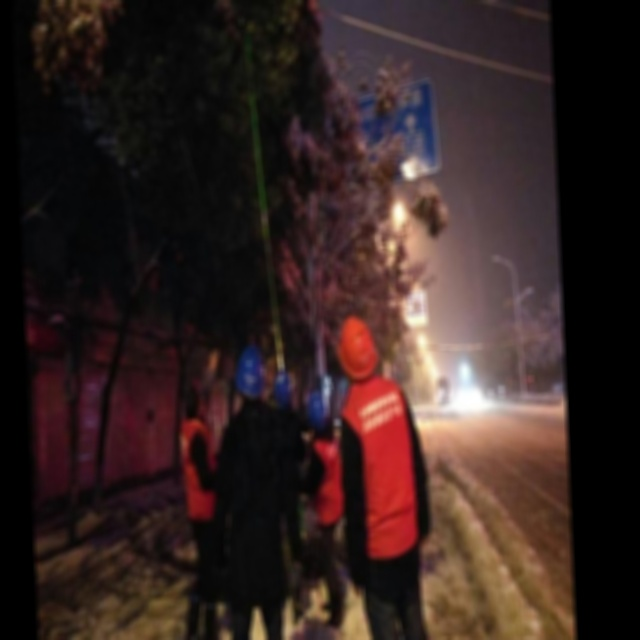Con_Casco: (338, 316, 377, 379)
